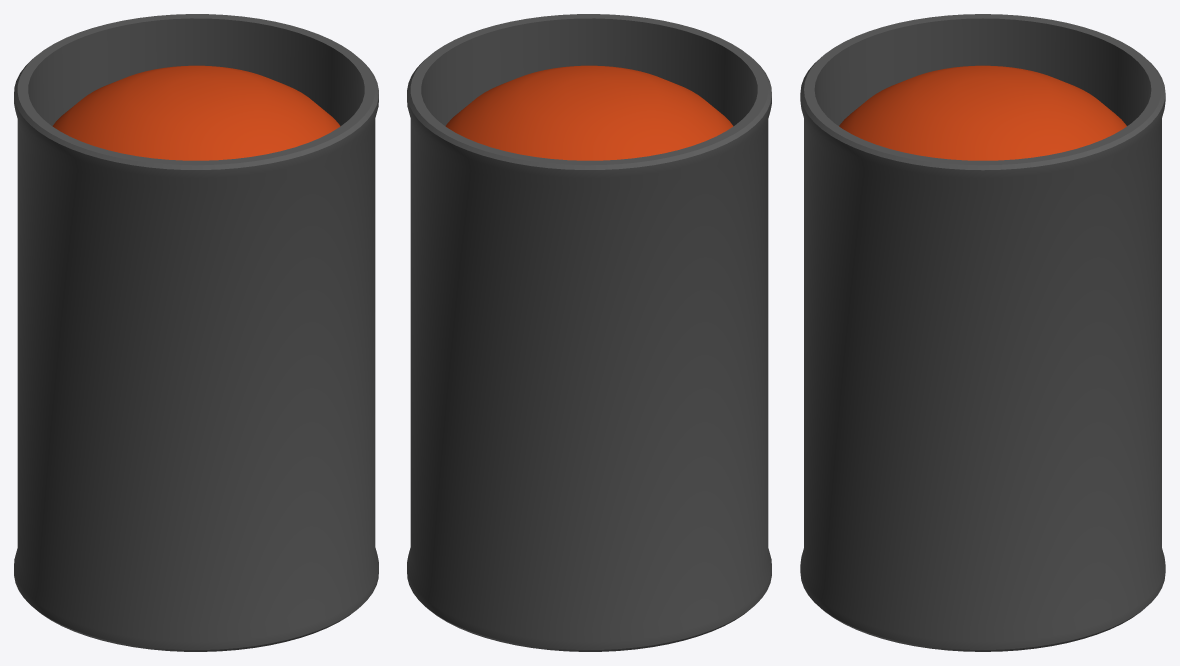
3 renders of one model, left to right at view 1: azimuth 30°, elevation 25°; view 2: azimuth 150°, elevation 25°; view 3: azimuth 270°, elevation 25°, orthographic.
Parts seen in each view (by area): view 1: Cylinder; view 2: Cylinder; view 3: Cylinder.
Part boxes in pixels (left/top/right/bottom): Cylinder: left=14, top=14, right=378, bottom=651; Cylinder: left=407, top=14, right=771, bottom=651; Cylinder: left=800, top=14, right=1165, bottom=651.
Size of the model in its own units: 2.04 by 3.01 by 2.04.
